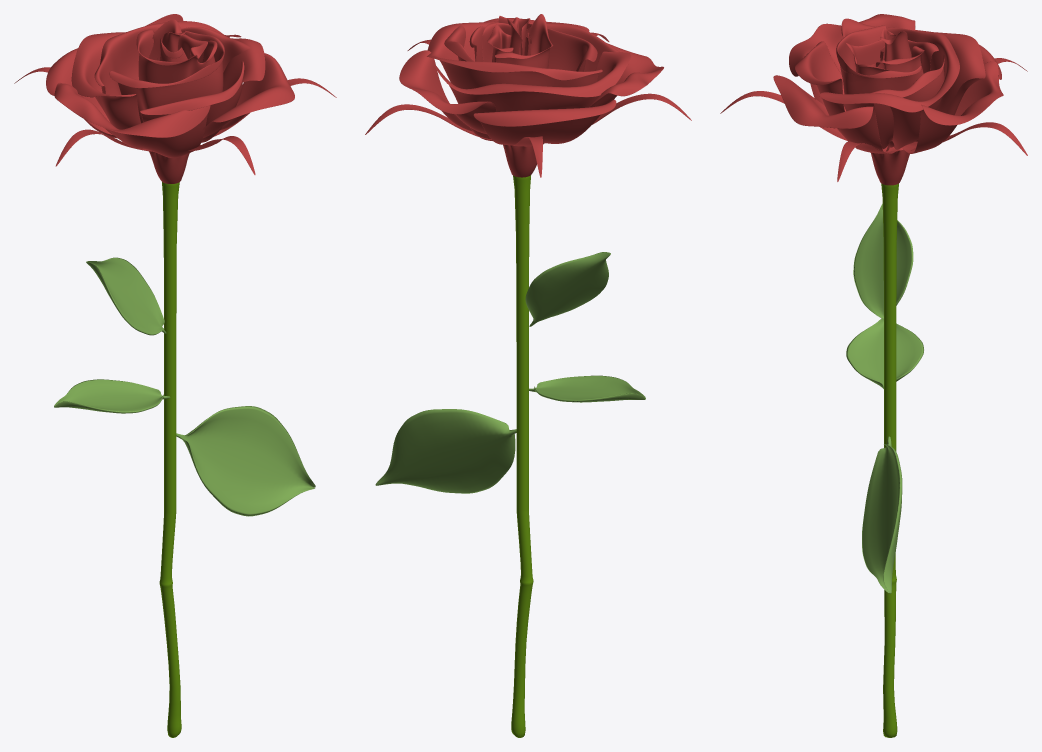
The model's file is Rose.obj.
3 renders of one model, left to right at view 1: azimuth 30°, elevation 25°; view 2: azimuth 150°, elevation 25°; view 3: azimuth 270°, elevation 25°, orthographic.
Size of the model in its own units: 0.3625 by 0.8616 by 0.3388.
